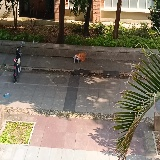fire: (76, 52, 86, 61)
